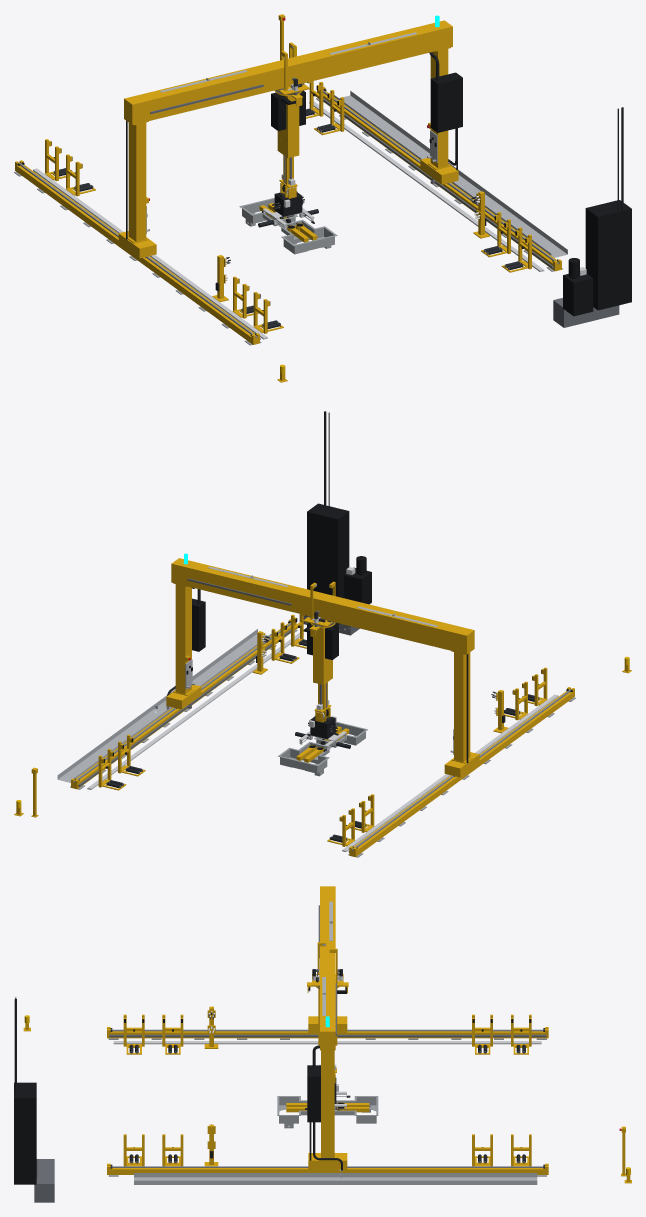
Rendered from tire_bay.depot.glb.
The picture shows the model from 3 angles, top to bottom: view 1: azimuth 30°, elevation 25°; view 2: azimuth 150°, elevation 25°; view 3: azimuth 270°, elevation 25°; orthographic projection. The views are drawn at different scales.
Parts seen in each view (by area): view 1: TB-BEM#1, TB-BCB#1, TB-FCT#1, TB-RLB#2, TB-LEG#2, TB-PCB#1, TB-RLB#1, TB-RCC#1, TB-RCC#2, TB-HPT#1, TB-PAN#1, TB-LEG#1 (+8 smaller); view 2: TB-BEM#1, TB-BCB#1, TB-FCT#1, TB-RLB#2, TB-LEG#2, TB-LEG#1, TB-RLB#1, TB-RCC#2, TB-RCC#1, TB-PAN#2, TB-HPT#1, TB-GDF#2 (+1 smaller); view 3: TB-FCT#1, TB-RLB#2, TB-BEM#1, TB-BCB#1, TB-RLB#1, TB-LEG#1, TB-RCC#2, RAIL35-9700#2, TB-PCB#1, RAIL35-9700#1, TB-PAN#2, TB-PAN#1 (+3 smaller).
Part boxes in pixels (bbox=[...]): TB-BEM#1: bbox=[124, 20, 452, 124]; TB-BCB#1: bbox=[585, 200, 631, 305]; TB-FCT#1: bbox=[334, 91, 567, 257]; TB-RLB#2: bbox=[15, 164, 259, 344]; TB-LEG#2: bbox=[127, 121, 148, 243]; TB-PCB#1: bbox=[430, 72, 462, 132]; TB-RLB#1: bbox=[317, 91, 561, 271]; TB-RCC#1: bbox=[309, 101, 544, 271]; TB-RCC#2: bbox=[33, 168, 267, 339]; TB-HPT#1: bbox=[563, 274, 593, 316]; TB-PAN#1: bbox=[279, 219, 337, 254]; TB-LEG#1: bbox=[428, 47, 450, 169]; TB-BEM#1: bbox=[171, 558, 474, 654]; TB-BCB#1: bbox=[307, 503, 349, 597]; TB-FCT#1: bbox=[57, 629, 271, 782]; TB-RLB#2: bbox=[349, 691, 574, 857]; TB-LEG#2: bbox=[451, 651, 472, 763]; TB-LEG#1: bbox=[173, 583, 194, 695]; TB-RLB#1: bbox=[71, 623, 296, 789]; TB-RCC#2: bbox=[342, 694, 558, 851]; TB-RCC#1: bbox=[87, 632, 303, 789]; TB-PAN#2: bbox=[278, 741, 331, 776]; TB-HPT#1: bbox=[344, 567, 371, 604]; TB-GDF#2: bbox=[313, 628, 329, 684]; TB-FCT#1: bbox=[134, 1173, 537, 1184]; TB-RLB#2: bbox=[107, 1031, 548, 1038]; TB-BEM#1: bbox=[320, 886, 335, 1050]; TB-BCB#1: bbox=[14, 1082, 36, 1180]; TB-RLB#1: bbox=[107, 1168, 548, 1174]; TB-LEG#1: bbox=[320, 1050, 334, 1157]; TB-RCC#2: bbox=[113, 1041, 541, 1044]; RAIL35-9700#2: bbox=[111, 1029, 544, 1031]; TB-PCB#1: bbox=[307, 1065, 320, 1122]; RAIL35-9700#1: bbox=[111, 1166, 544, 1167]; TB-PAN#2: bbox=[334, 1096, 378, 1123]; TB-PAN#1: bbox=[277, 1096, 307, 1128].
Bounding box in the file's own units: 8.14 × 4.85 × 13.57.
